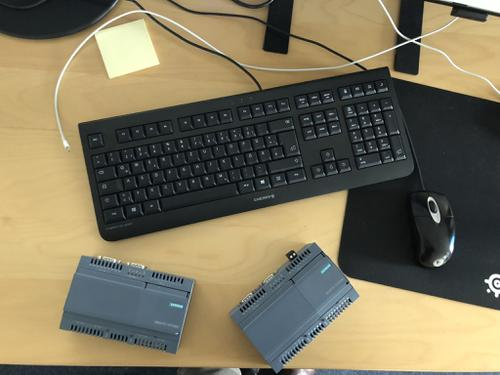device: (230, 243, 361, 374), (59, 256, 196, 355)
